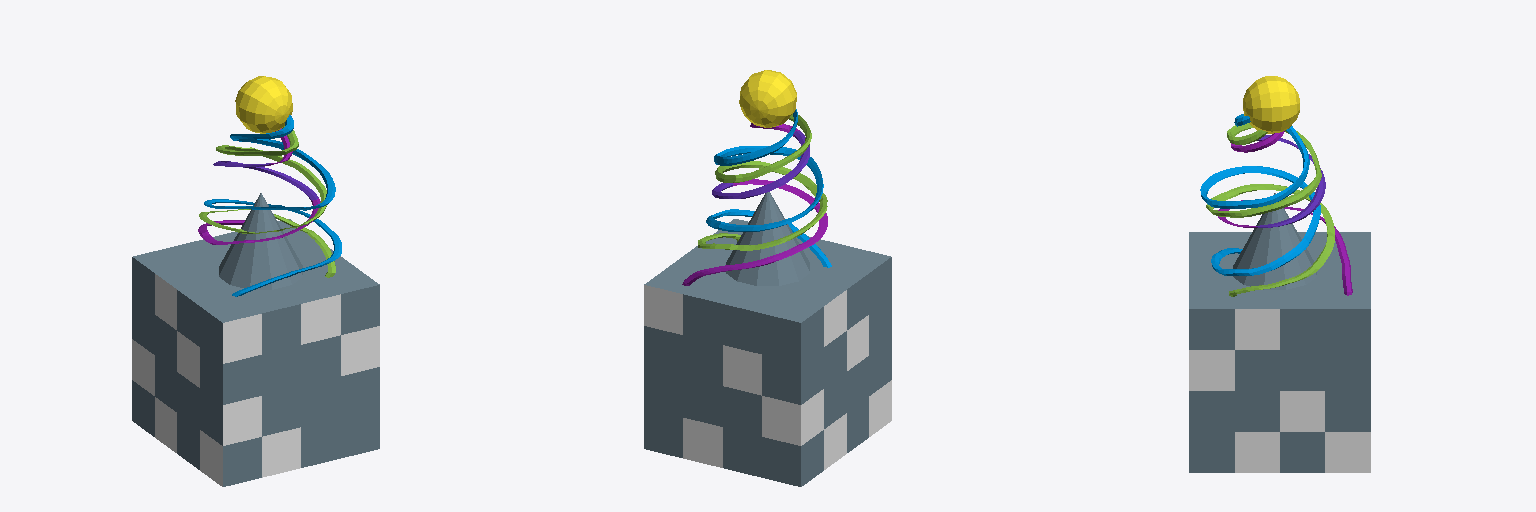
Rendered from model-triangulated.obj.
3 views of the same model, side by side, from view 1: azimuth 30°, elevation 25°; view 2: azimuth 150°, elevation 25°; view 3: azimuth 270°, elevation 25° (orthographic).
Parts seen in each view (by area): view 1: group[number redacted], group[number redacted], group[number redacted], group[number redacted], group[number redacted], group[number redacted]; view 2: group[number redacted], group[number redacted], group[number redacted], group[number redacted], group[number redacted], group[number redacted]; view 3: group[number redacted], group[number redacted], group[number redacted], group[number redacted], group[number redacted], group[number redacted].
Boxes of the visible parts, <box> form: group[number redacted]: <box>132,219,379,486</box>; group[number redacted]: <box>219,193,302,289</box>; group[number redacted]: <box>204,115,341,296</box>; group[number redacted]: <box>235,76,292,133</box>; group[number redacted]: <box>199,126,335,277</box>; group[number redacted]: <box>198,128,320,244</box>; group[number redacted]: <box>644,219,891,486</box>; group[number redacted]: <box>726,192,809,285</box>; group[number redacted]: <box>706,109,831,267</box>; group[number redacted]: <box>682,123,827,285</box>; group[number redacted]: <box>698,114,827,250</box>; group[number redacted]: <box>739,70,796,127</box>; group[number redacted]: <box>1189,232,1370,472</box>; group[number redacted]: <box>1200,114,1320,275</box>; group[number redacted]: <box>1233,193,1316,289</box>; group[number redacted]: <box>1206,123,1334,296</box>; group[number redacted]: <box>1243,76,1299,133</box>; group[number redacted]: <box>1218,131,1352,295</box>.
Bounding box in the file's own units: 2.01 × 4.37 × 2.01.